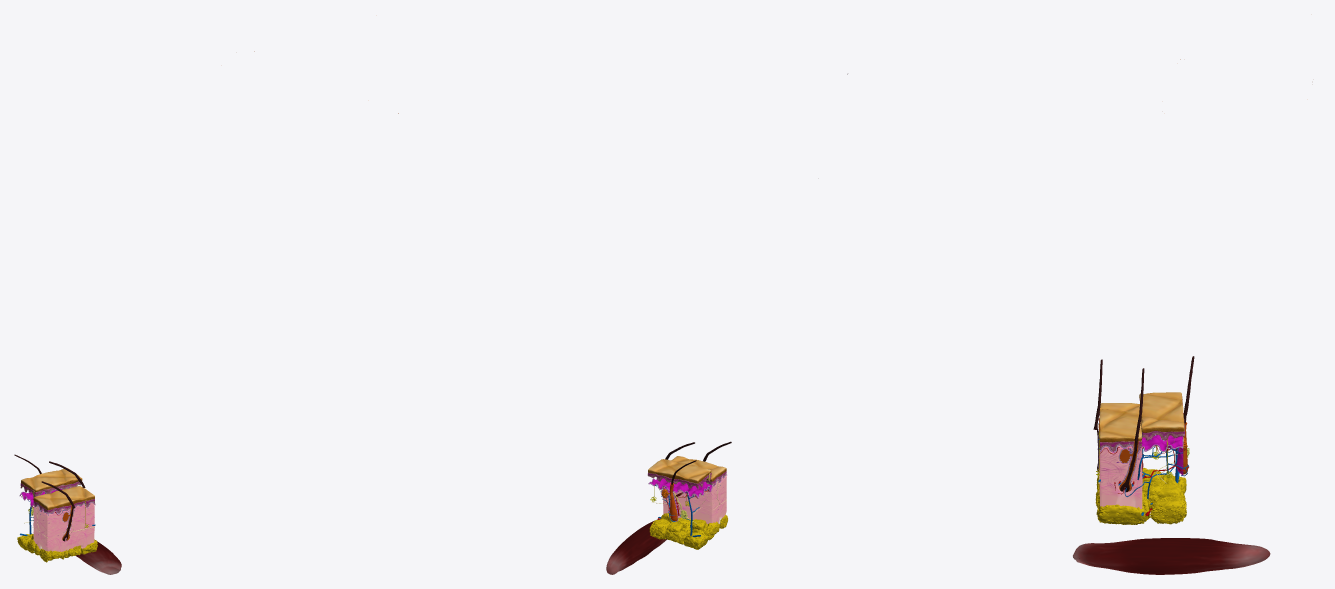
The model's file is esteee.glb.
3 views of the same model, side by side, from view 1: azimuth 30°, elevation 25°; view 2: azimuth 150°, elevation 25°; view 3: azimuth 270°, elevation 25° (orthographic). The views are drawn at different scales.
Visible parts, largest first — view 1: PM3D_Cube3D5_945, Epischdermis_Epischdermis_0.002, PM3D_Sphere3D2_343_PM3D_Sphere3D2_343_0.001, Big, PM3D_Sphere3D2_2_PM3D_Sphere3D2_2_0.002; view 2: PM3D_Sphere3D2_343_PM3D_Sphere3D2_343_0.001, PM3D_Cube3D5_945, PM3D_Sphere3D2_2_PM3D_Sphere3D2_2_0.002, Epischdermis_Epischdermis_0.002; view 3: PM3D_Sphere3D2_2_PM3D_Sphere3D2_2_0.002, PM3D_Sphere3D2_343_PM3D_Sphere3D2_343_0.001, PM3D_Cube3D5_945, Epischdermis_Epischdermis_0.002, Big, Skin_ZSphere6_Skin_ZSphere6_0.002, Skin_ZSphere_4_Skin_ZSphere_4_0.003, Extract6.
Boxes of the visible parts, x1,y1,x2,y2 form: PM3D_Cube3D5_945: (33,502,94,551); Epischdermis_Epischdermis_0.002: (20,468,82,497); PM3D_Sphere3D2_343_PM3D_Sphere3D2_343_0.001: (17,534,97,562); Big: (33,486,94,510); PM3D_Sphere3D2_2_PM3D_Sphere3D2_2_0.002: (76,540,121,574); PM3D_Sphere3D2_343_PM3D_Sphere3D2_343_0.001: (649,513,727,549); PM3D_Cube3D5_945: (663,475,726,524); PM3D_Sphere3D2_2_PM3D_Sphere3D2_2_0.002: (606,519,666,574); Epischdermis_Epischdermis_0.002: (647,459,711,489); PM3D_Sphere3D2_2_PM3D_Sphere3D2_2_0.002: (1073,538,1270,574); PM3D_Sphere3D2_343_PM3D_Sphere3D2_343_0.001: (1095,468,1186,524); PM3D_Cube3D5_945: (1099,445,1142,508); Epischdermis_Epischdermis_0.002: (1139,392,1184,441); Big: (1099,403,1142,442); Skin_ZSphere6_Skin_ZSphere6_0.002: (1098,418,1188,515); Skin_ZSphere_4_Skin_ZSphere_4_0.003: (1120,356,1194,492); Extract6: (1100,435,1183,490).
Bounding box in the file's own units: 21.35 × 29.8 × 18.39.
Materials: 25 (13 with a texture image).
